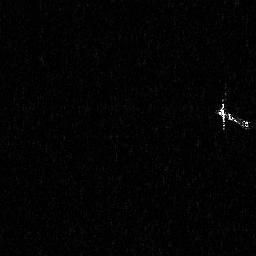ship: (215, 98, 251, 133)
